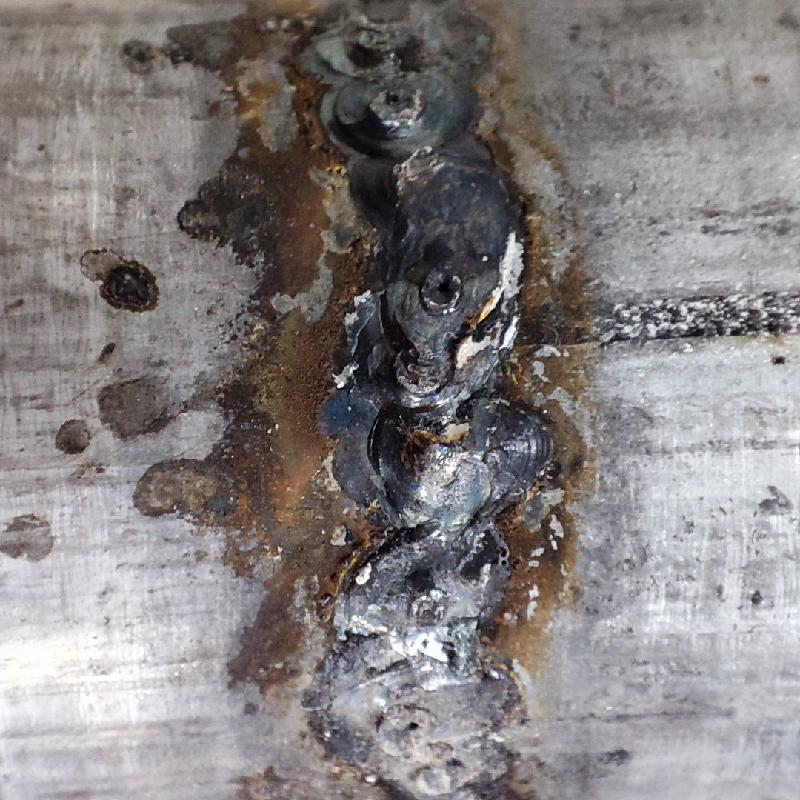Surface_pores: (383, 707, 437, 749), (421, 264, 466, 308)
wrong_size: (302, 0, 538, 537)
